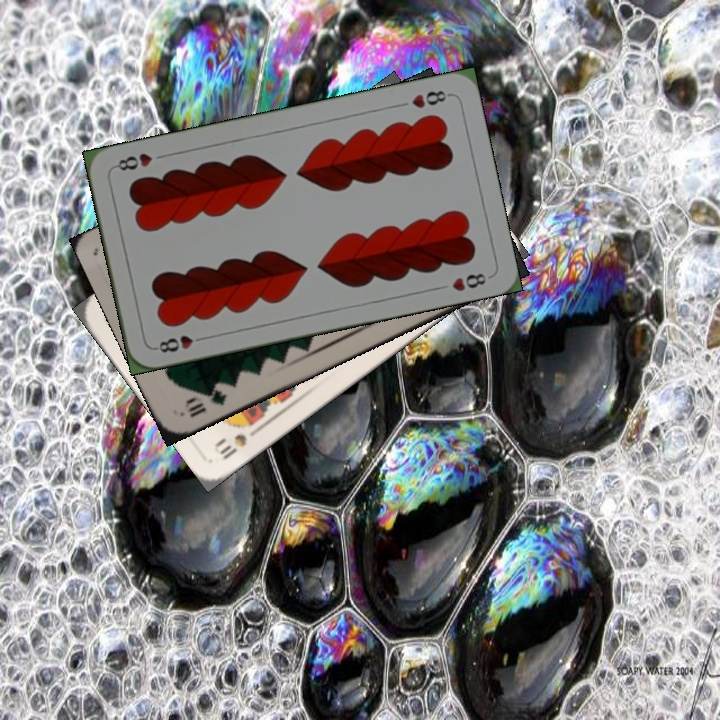G10: (180, 384, 230, 420)
H8: (151, 331, 209, 355), (407, 86, 453, 111)
S10: (210, 421, 264, 463)
